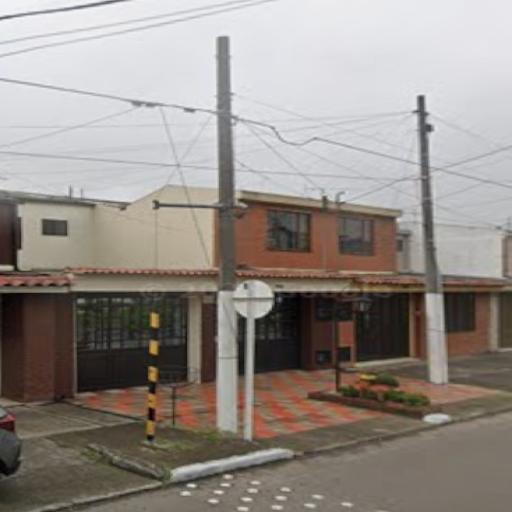poste: (209, 34, 249, 437), (410, 97, 452, 385)
